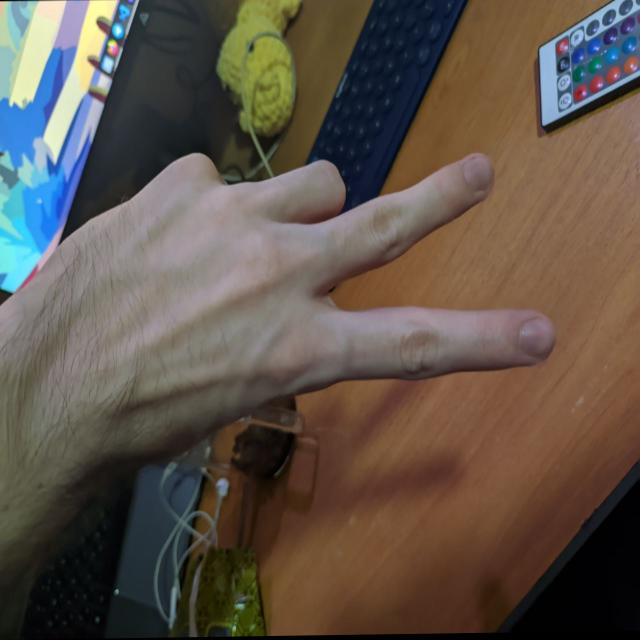l: (87, 114, 560, 466)
